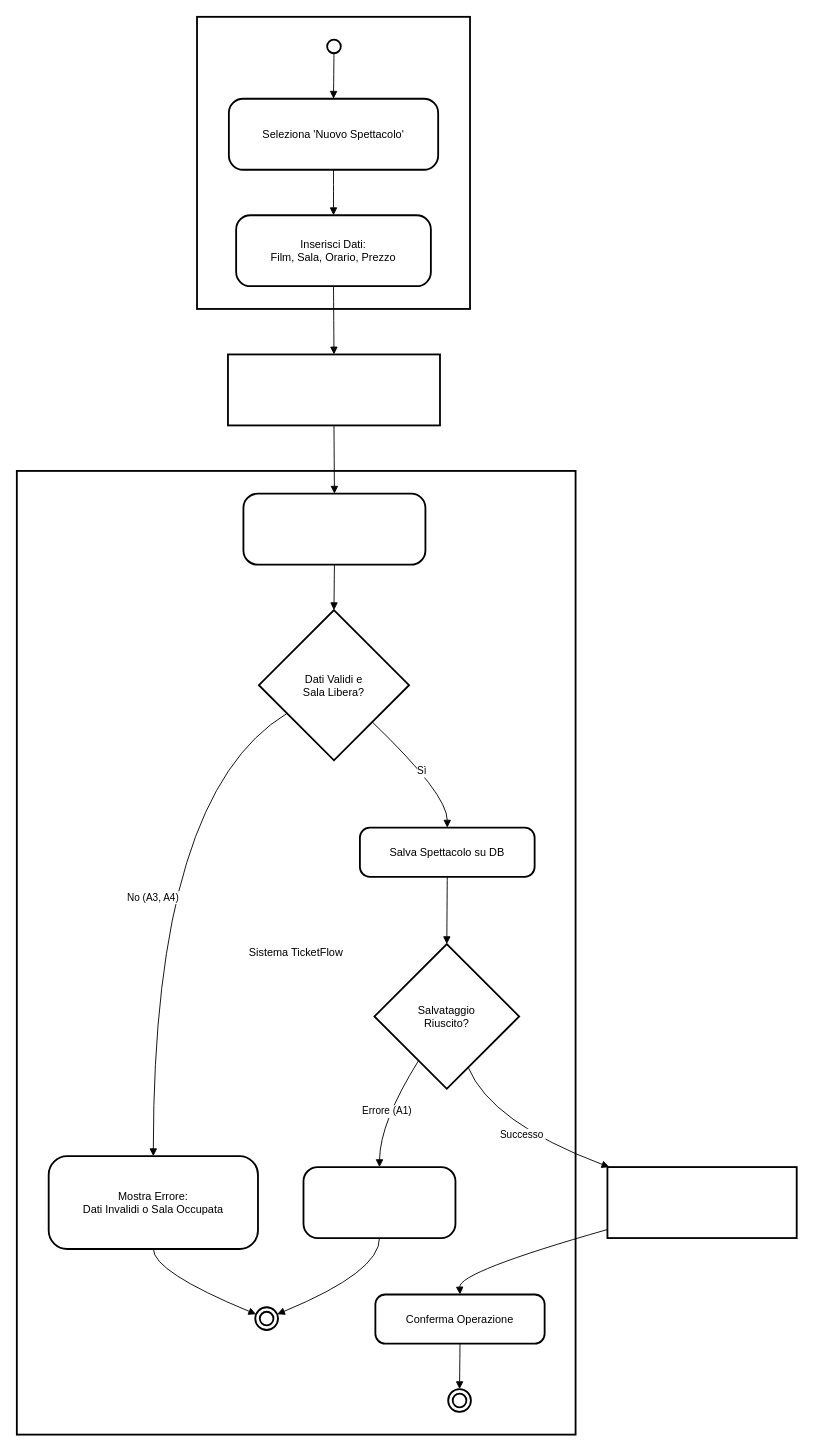
This 813x1451 diagram has some shape labels left out. Here are the shapes that lost their labels. From the top down, the centre of each, then its label:
At (333,389): "Oggetto: Dati Spettacolo Proposti".
At (334,528): "Calcola Fine e Verifica Sovrapposizioni".
At (379,1202): "Mostra Errore: Problema Database".
At (701,1202): "Oggetto: Spettacolo Persistito".
